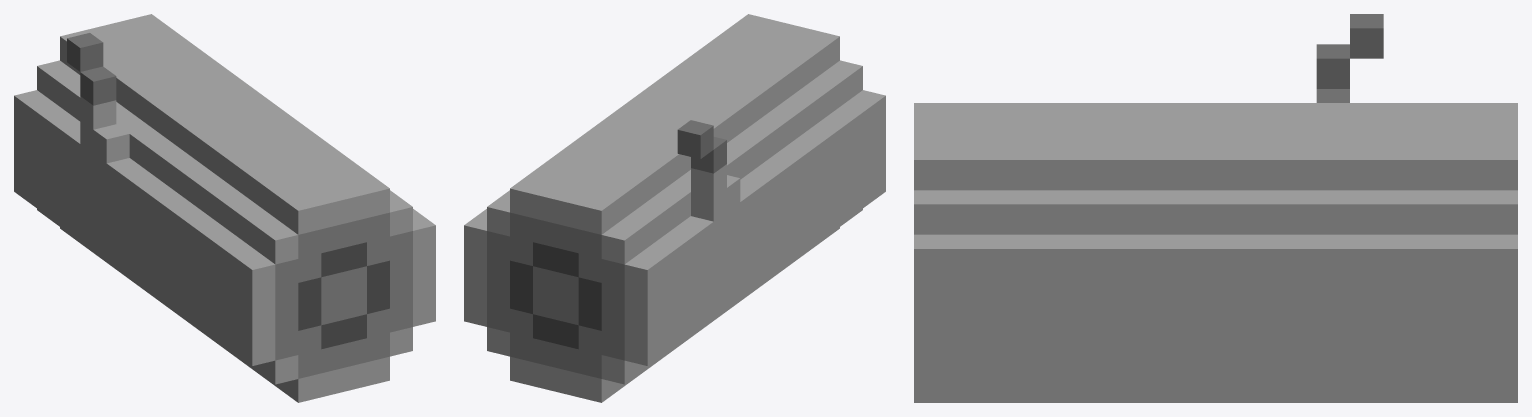
Rendered from Log.FBX.
3 views of the same model, side by side, from view 1: azimuth 30°, elevation 25°; view 2: azimuth 150°, elevation 25°; view 3: azimuth 270°, elevation 25° (orthographic). The views are drawn at different scales.
Parts seen in each view (by area): view 1: Log; view 2: Log; view 3: Log.
Part boxes in pixels (x1,y1,x2,y2): Log: [14, 14, 435, 402]; Log: [464, 14, 885, 402]; Log: [914, 14, 1517, 402].
Bounding box in the file's own units: 6.3 × 7.87 × 14.17.
